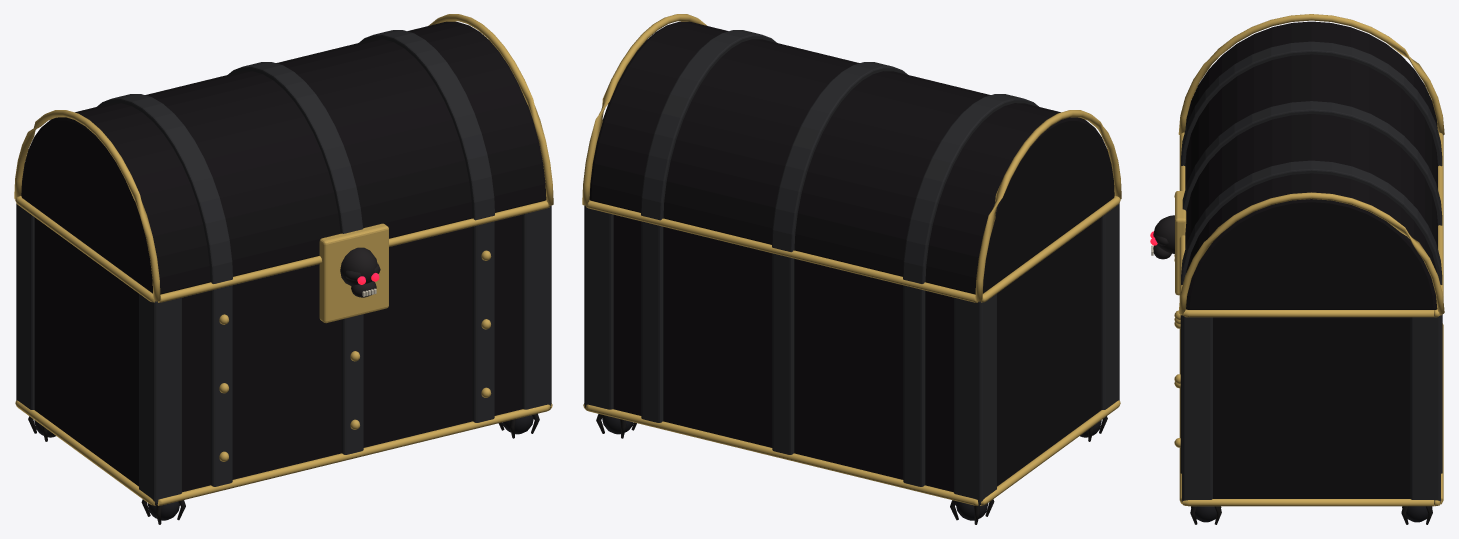
The model's file is wc-chest.glb.
3 views of the same model, side by side, from view 1: azimuth 30°, elevation 25°; view 2: azimuth 150°, elevation 25°; view 3: azimuth 270°, elevation 25° (orthographic). The views are drawn at different scales.
Parts seen in each view (by area): view 1: Part0__BlackLacquer__18_16_18; view 2: Part0__BlackLacquer__18_16_18; view 3: Part0__BlackLacquer__18_16_18.
Part boxes in pixels (box(x1,y1,x2,y2)): Part0__BlackLacquer__18_16_18: box(14, 14, 553, 524); Part0__BlackLacquer__18_16_18: box(582, 14, 1121, 524); Part0__BlackLacquer__18_16_18: box(1150, 14, 1444, 524).
Size of the model in its own units: 2 by 1.72 by 1.36.
